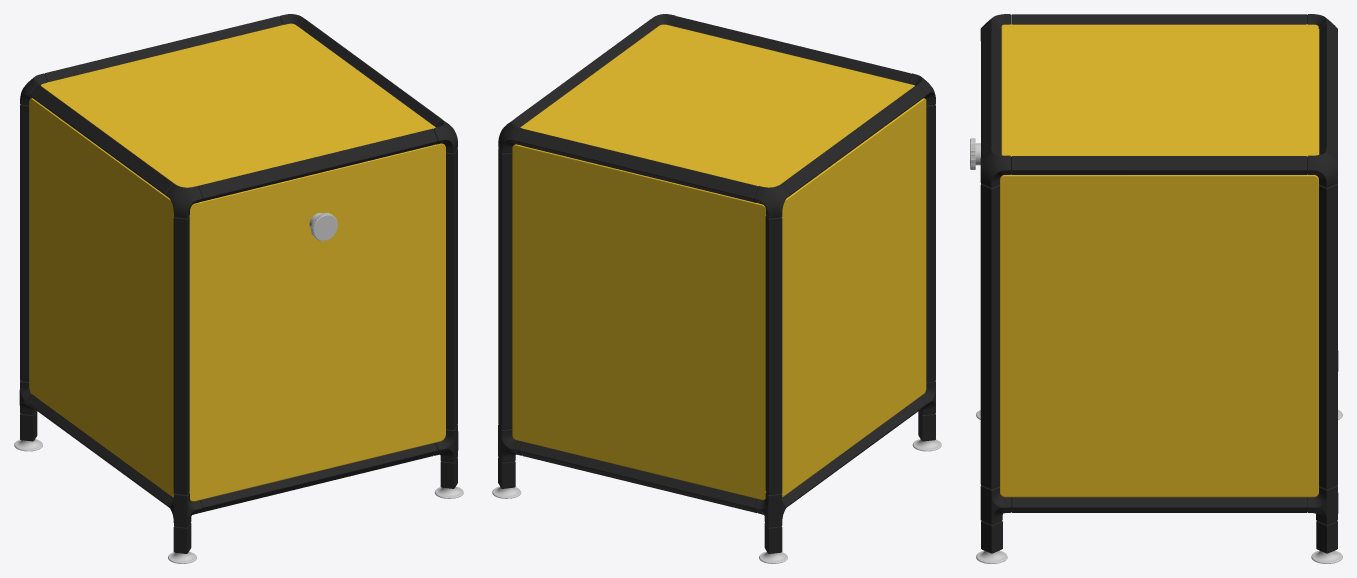
3 views of the same model, side by side, from view 1: azimuth 30°, elevation 25°; view 2: azimuth 150°, elevation 25°; view 3: azimuth 270°, elevation 25° (orthographic). The views are drawn at different scales.
Visible parts, largest first — view 1: 374x374x420; view 2: 374x374x420; view 3: 374x374x420.
Part boxes in pixels (left/top/right/bottom): 374x374x420: left=14, top=14, right=463, bottom=563; 374x374x420: left=492, top=14, right=941, bottom=563; 374x374x420: left=970, top=14, right=1342, bottom=563.
Bounding box in the file's own units: 0.464 × 0.5593 × 0.4708.
